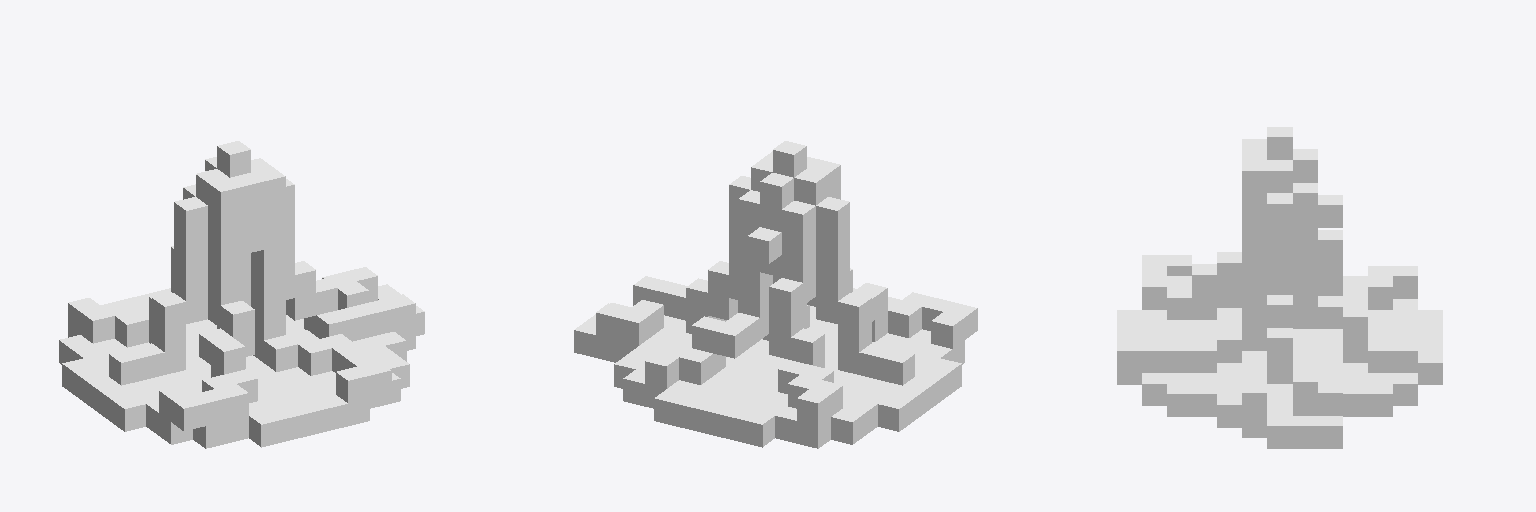
File: AlienPlate.obj
3 views of the same model, side by side, from view 1: azimuth 30°, elevation 25°; view 2: azimuth 150°, elevation 25°; view 3: azimuth 270°, elevation 25° (orthographic).
Bounding box in the file's own units: 15 × 10 × 13.